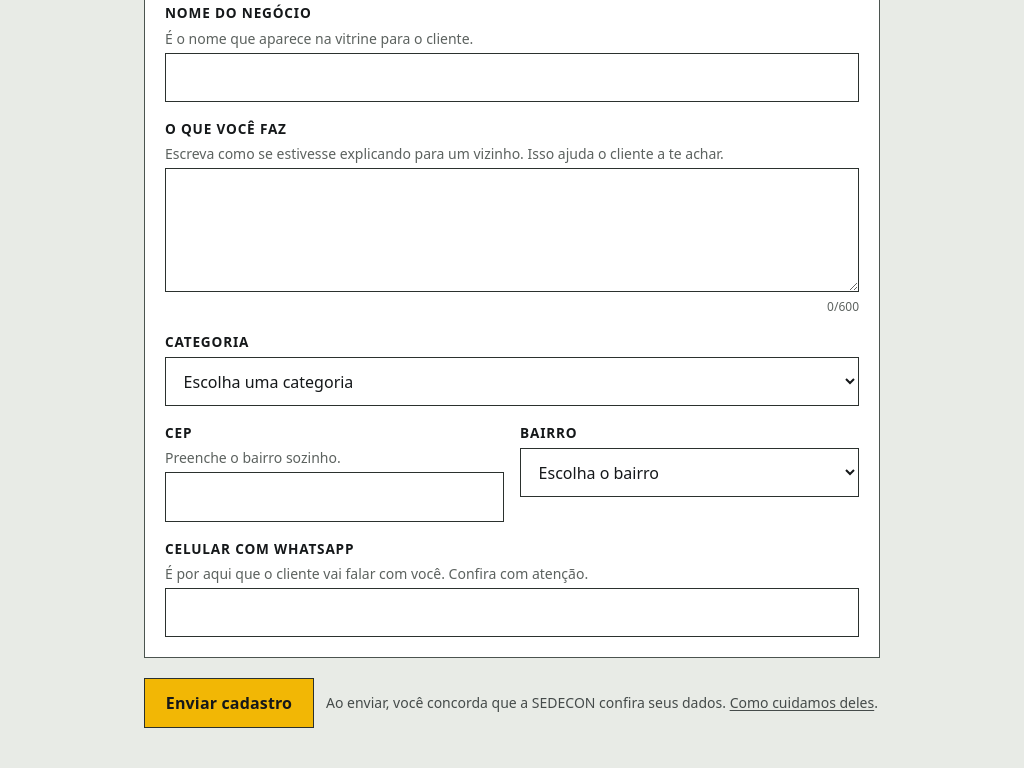
formulário de cadastro › preenche o bairro sozinho a partir do CEP
(page scrolled)
Step 1. Type "17011066" into the field labelled "CEP" → x=334, y=497, box x1=165 y1=472 x2=504 y2=522
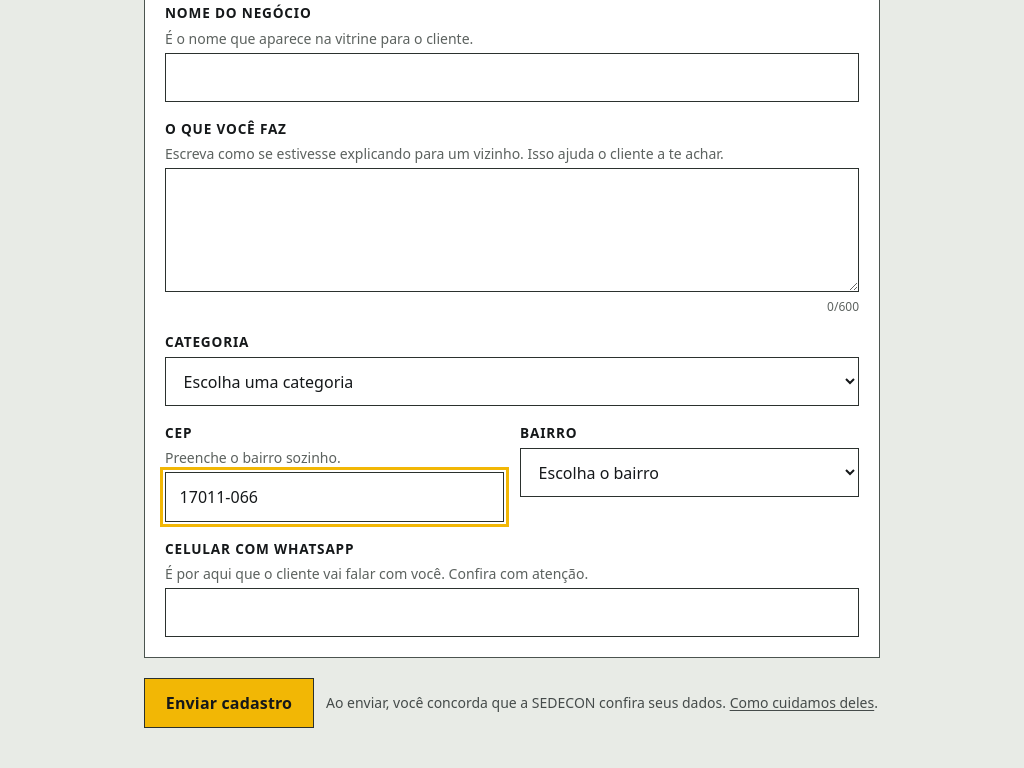
Step 2. Press Tab
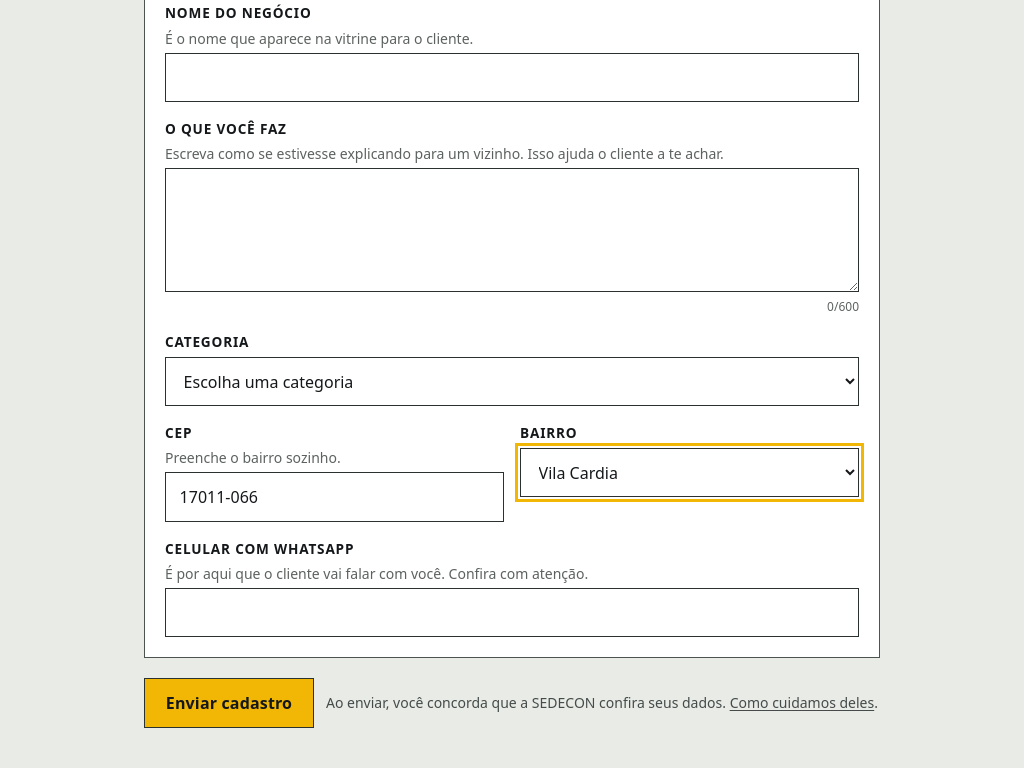
Now the dropdown labelled "Bairro" shows "Vila Cardia", box x1=520 y1=448 x2=859 y2=497
